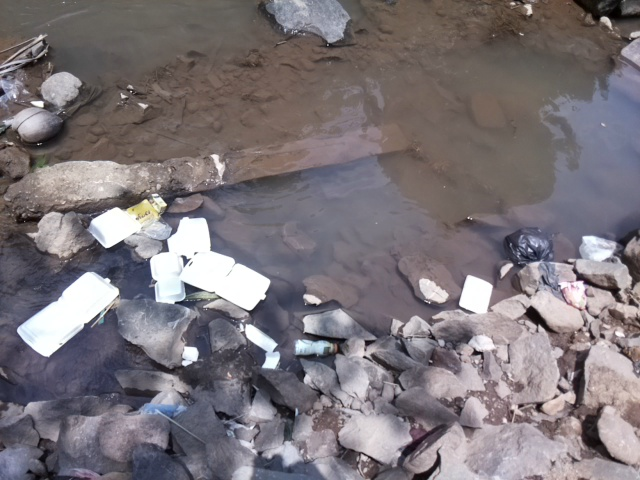Sampah_Botol_Plastik: (294, 337, 338, 358)
Sampah_Plastik: (506, 228, 557, 265), (578, 234, 623, 264)
Sampah_Styrofoam: (149, 217, 274, 317), (13, 264, 121, 358), (87, 205, 142, 249), (243, 323, 283, 369), (457, 274, 494, 315)
